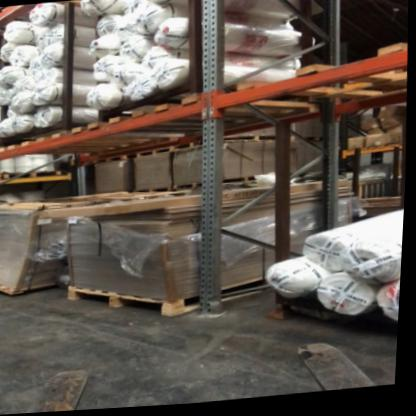vertical_damage: (197, 296, 236, 325)
